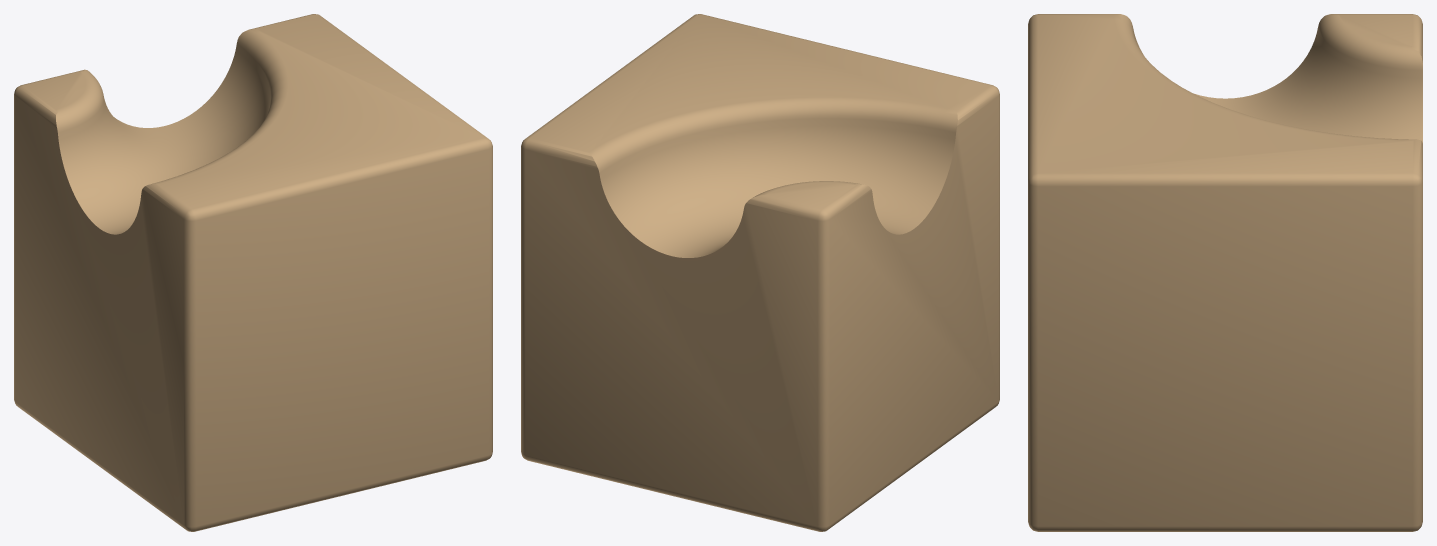
The model's file is blk_curve90_l3.glb.
3 renders of one model, left to right at view 1: azimuth 30°, elevation 25°; view 2: azimuth 150°, elevation 25°; view 3: azimuth 270°, elevation 25°, orthographic. The views are drawn at different scales.
Visible parts, largest first — view 1: blk_curve90_l3_lod0; view 2: blk_curve90_l3_lod0; view 3: blk_curve90_l3_lod0.
Boxes of the visible parts, left/top/right/bottom form: blk_curve90_l3_lod0: left=14, top=14, right=492, bottom=531; blk_curve90_l3_lod0: left=521, top=14, right=999, bottom=531; blk_curve90_l3_lod0: left=1028, top=14, right=1422, bottom=531.
Size of what is drawn, in the model's own units: 0.059 by 0.059 by 0.059.
